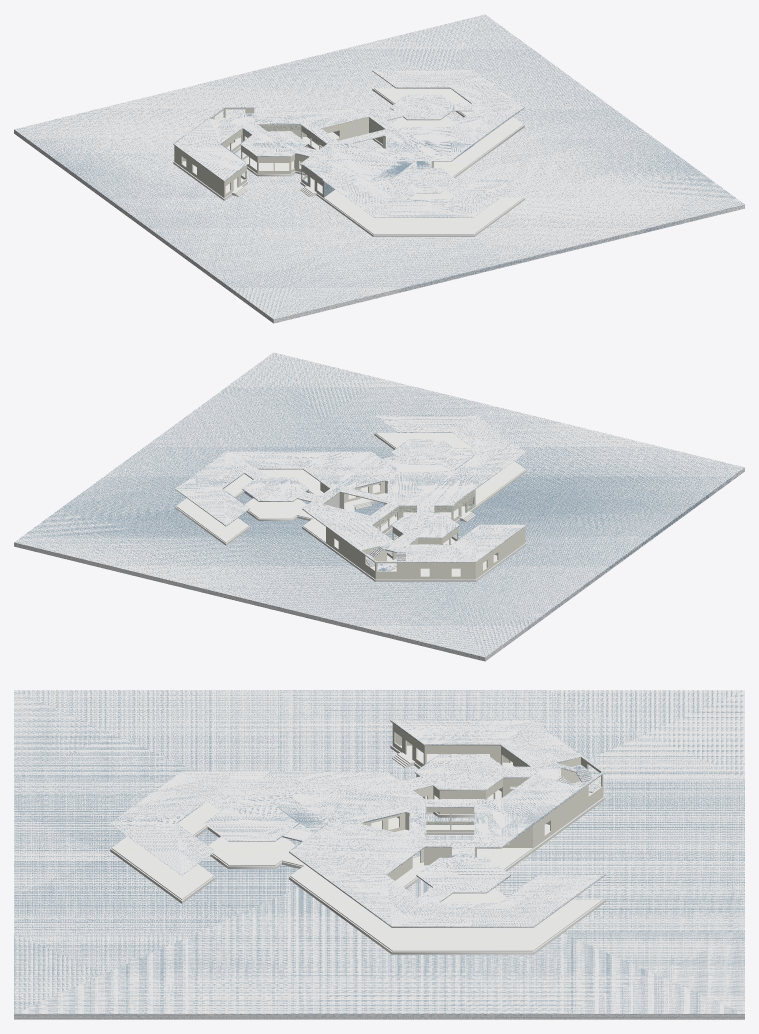
File: LevelTest010322.fbx
3 renders of one model, top to bottom at view 1: azimuth 30°, elevation 25°; view 2: azimuth 150°, elevation 25°; view 3: azimuth 270°, elevation 25°, orthographic. The views are drawn at different scales.
Parts seen in each view (by area): view 1: Group53, Group52, Group49, Group1; view 2: Group53, Group52, Group49, Group1; view 3: Group53, Group52, Group49, Group1.
Boxes of the visible parts, x1,y1,x2,y2 form: Group53: (14, 14, 744, 323); Group52: (173, 70, 524, 217); Group49: (173, 88, 525, 236); Group1: (174, 108, 433, 197); Group53: (14, 352, 744, 661); Group52: (175, 415, 526, 562); Group49: (175, 433, 526, 581); Group1: (320, 481, 525, 578); Group53: (14, 690, 744, 1019); Group52: (110, 720, 605, 927); Group49: (110, 745, 605, 954); Group1: (362, 723, 603, 880).
Size of the model in its own units: 119 by 5.8 by 113.
